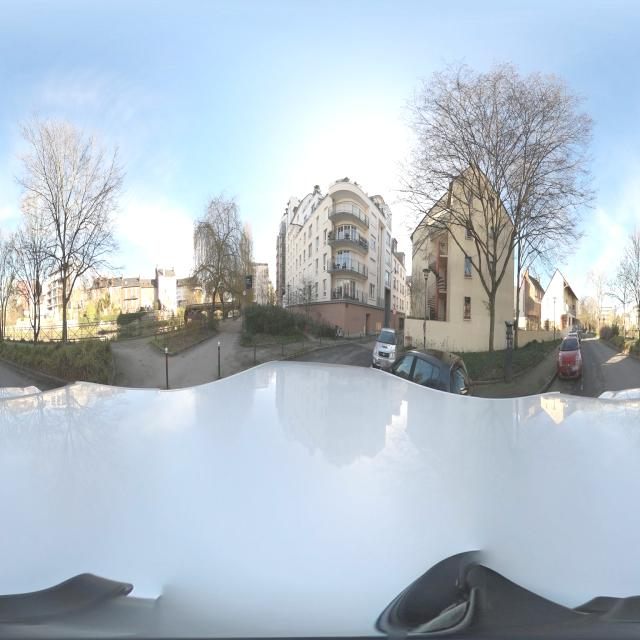car: (389, 348, 474, 393), (372, 327, 402, 369), (556, 337, 584, 382)
